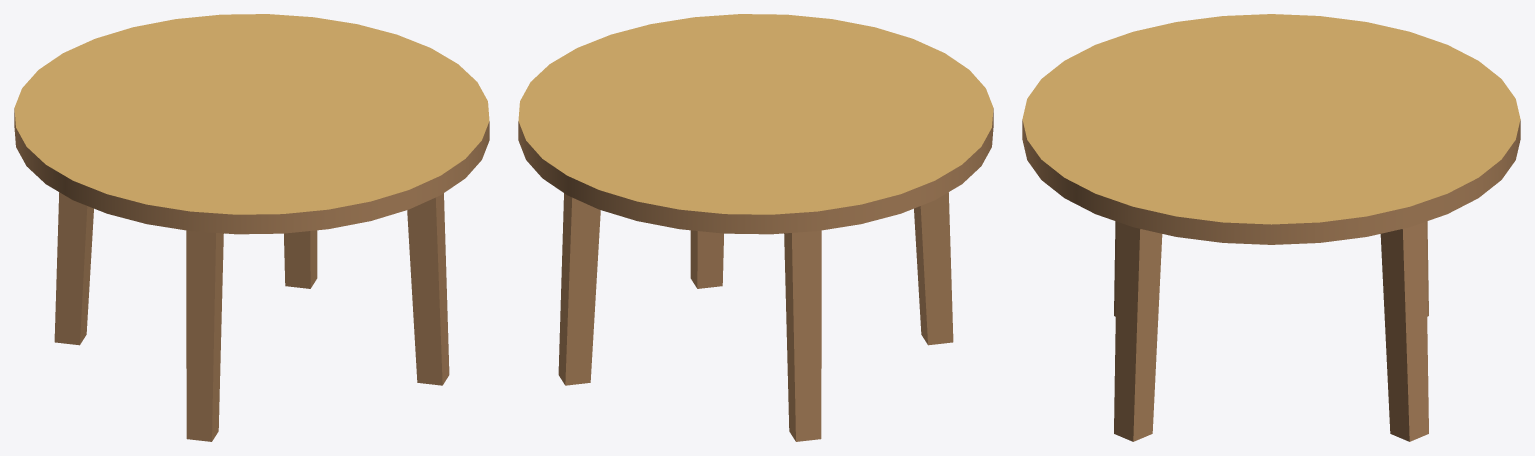
File: Library Table.fbx
The picture shows the model from 3 angles, left to right: view 1: azimuth 30°, elevation 25°; view 2: azimuth 150°, elevation 25°; view 3: azimuth 270°, elevation 25°; orthographic projection. The views are drawn at different scales.
Visible parts, largest first — view 1: library table; view 2: library table; view 3: library table.
Part boxes in pixels (box(x1,y1,x2,y2)): library table: box(14, 14, 489, 441); library table: box(518, 14, 993, 441); library table: box(1022, 14, 1520, 441).
Bounding box in the file's own units: 128 × 72.64 × 128.
